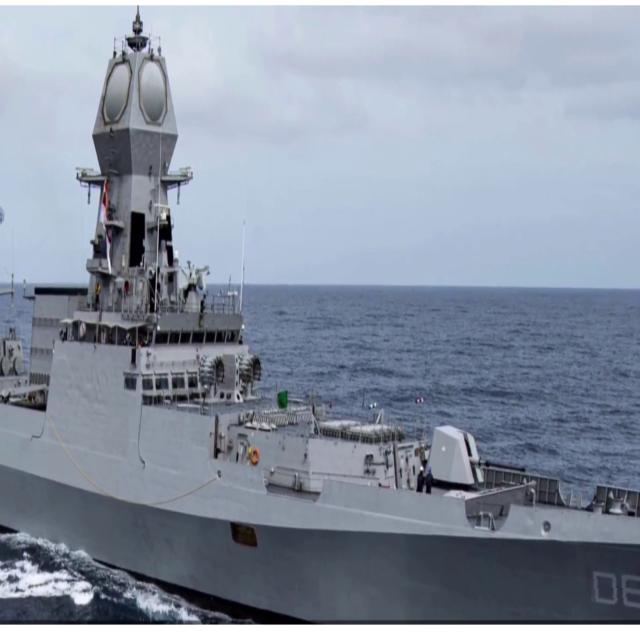OCR: (588, 564, 640, 613)
